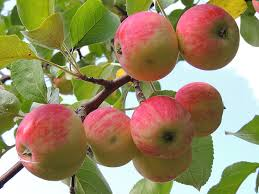tao: (84, 81, 244, 182), (176, 2, 249, 78), (17, 104, 87, 181), (117, 11, 179, 81)
